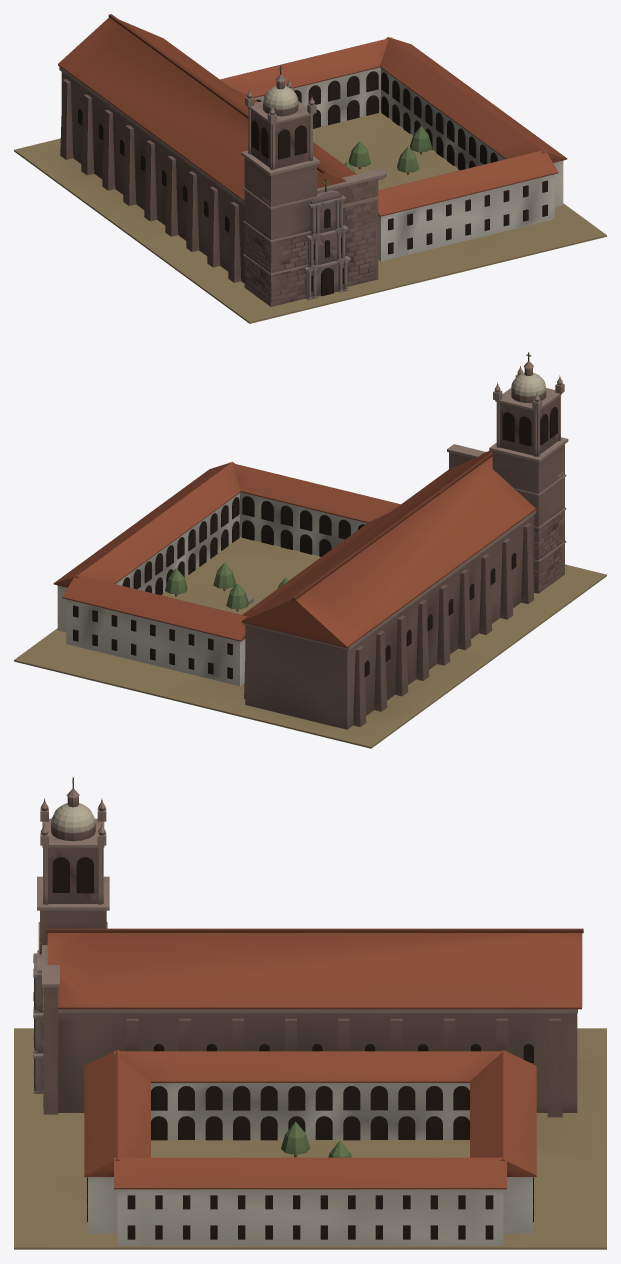
The model's file is san-francisco.glb.
3 renders of one model, top to bottom at view 1: azimuth 30°, elevation 25°; view 2: azimuth 150°, elevation 25°; view 3: azimuth 270°, elevation 25°, orthographic. The views are drawn at different scales.
Parts seen in each view (by area): view 1: p1_church, p0_ground, p2_roofs; view 2: p1_church, p0_ground, p2_roofs; view 3: p1_church, p2_roofs, p0_ground.
Boxes of the visible parts, x1,y1,x2,y2 form: p1_church: (58, 14, 563, 306); p0_ground: (14, 112, 606, 323); p2_roofs: (220, 37, 567, 216); p1_church: (57, 352, 568, 729); p0_ground: (14, 537, 606, 748); p2_roofs: (53, 462, 400, 641); p1_church: (33, 777, 583, 1245); p2_roofs: (84, 1050, 536, 1189); p0_ground: (14, 1028, 606, 1249).
Bounding box in the file's own units: 70.03 × 42.65 × 80.
